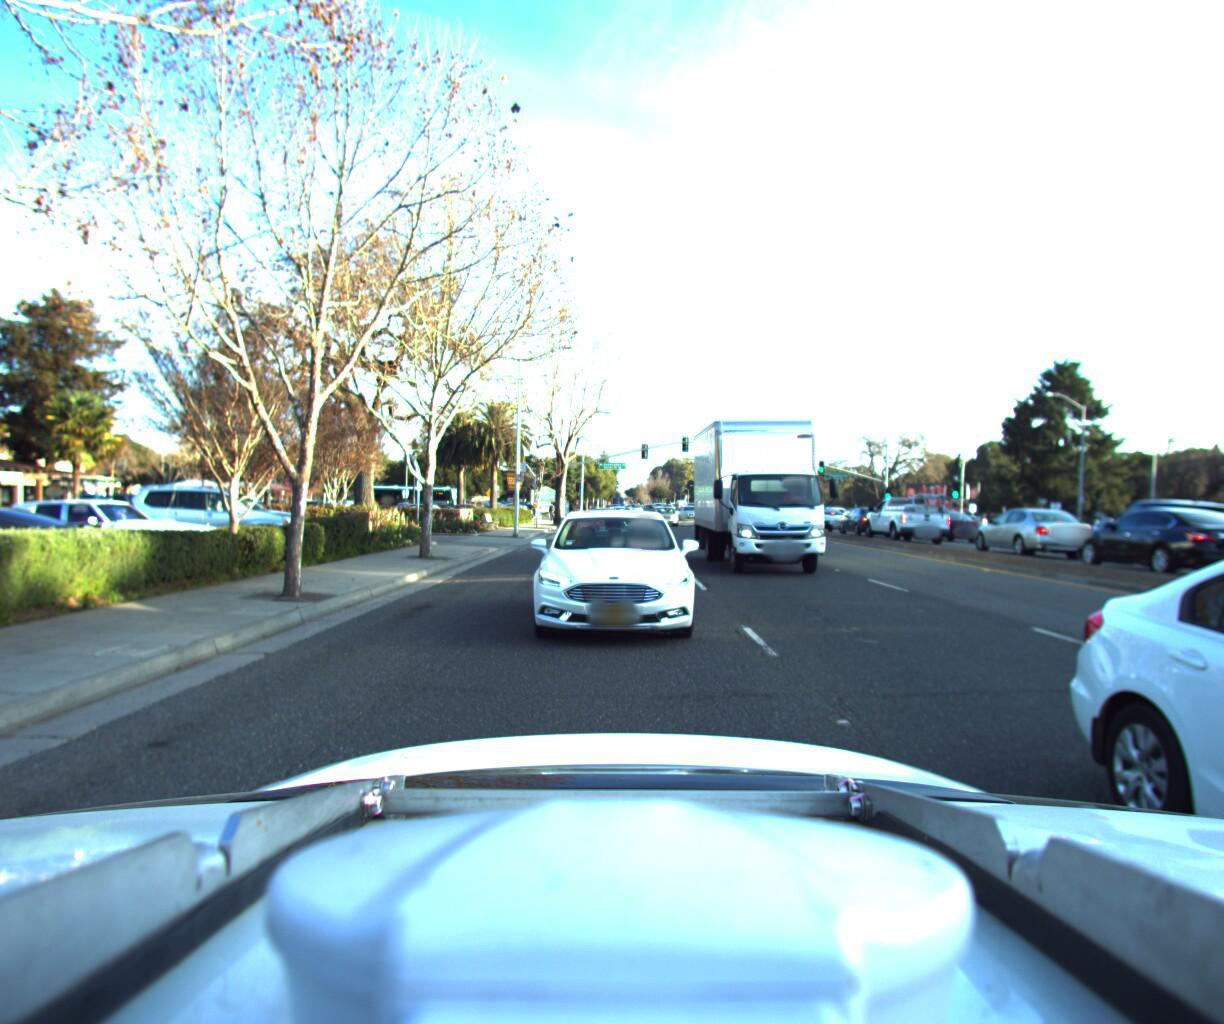car: (528, 497, 696, 660), (0, 489, 239, 574), (0, 492, 117, 606), (1063, 496, 1224, 578), (123, 476, 313, 540), (1075, 486, 1224, 557), (966, 495, 1105, 555), (857, 482, 961, 541), (1128, 510, 1224, 564), (906, 502, 980, 540), (835, 496, 899, 532), (800, 496, 848, 526), (1204, 498, 1224, 565), (647, 491, 682, 520), (937, 505, 989, 522), (678, 504, 702, 521)
truck: (690, 387, 860, 586)
